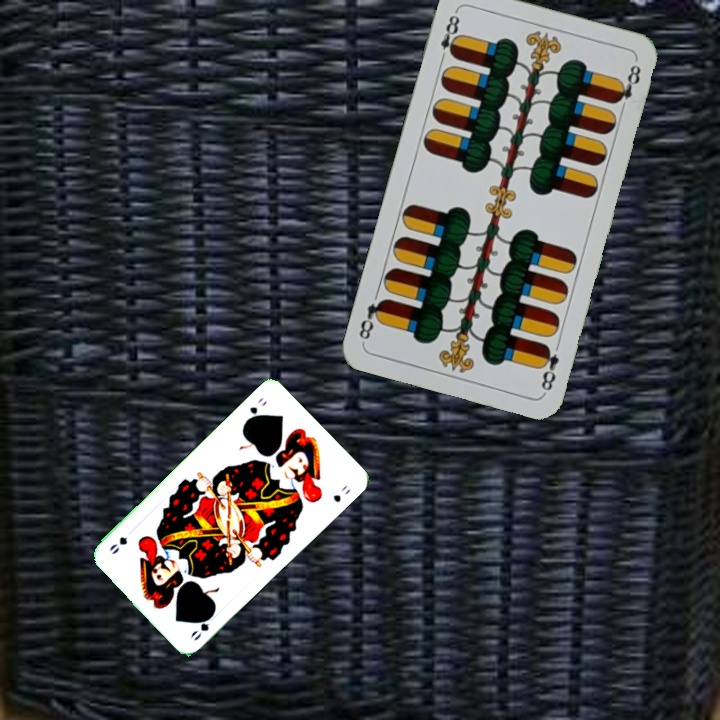E8: (436, 7, 463, 65), (535, 340, 562, 395)
GO: (186, 608, 220, 643), (241, 394, 270, 426)
